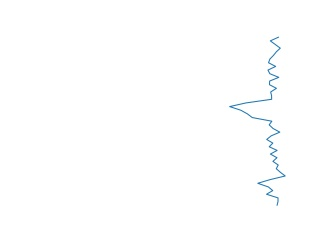interdistributaryEstuary: (226, 34, 288, 208)
